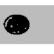correct: (3, 12, 33, 36)
